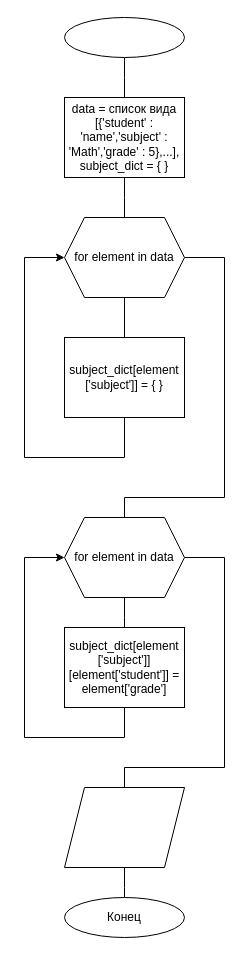
Image size: 243x955. Some labels were removed from this diagram. The shapes that lost their labels are listed below. From the top down, each one's centre as x and y in pixels, then its label:
point 124,37: Начало
point 124,827: вывод subject_dict
